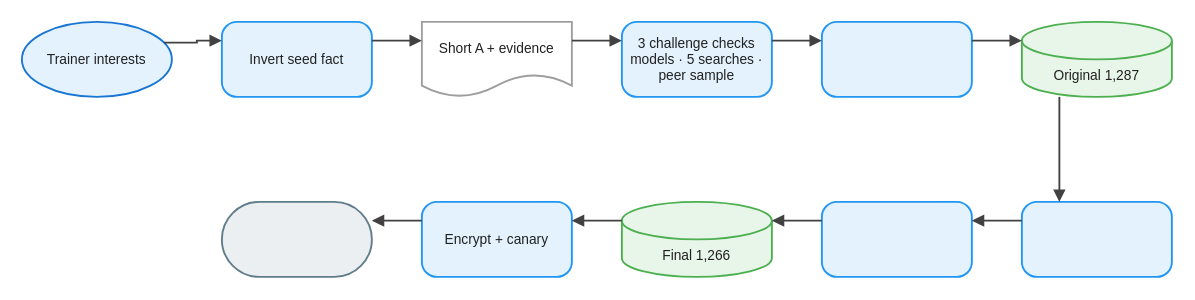
This 1195x300 diagram has some shape labels left out. The shapes that lost their labels are listed below. From the top down, each one's box as (x1, y1, x2, y2) in pixels, then its label:
(820, 20, 972, 97): Revise if needed
(220, 200, 372, 277): Public CSV
(820, 200, 972, 277): Drop 21 defects
(1020, 200, 1172, 277): Audit 118 0%-pass
